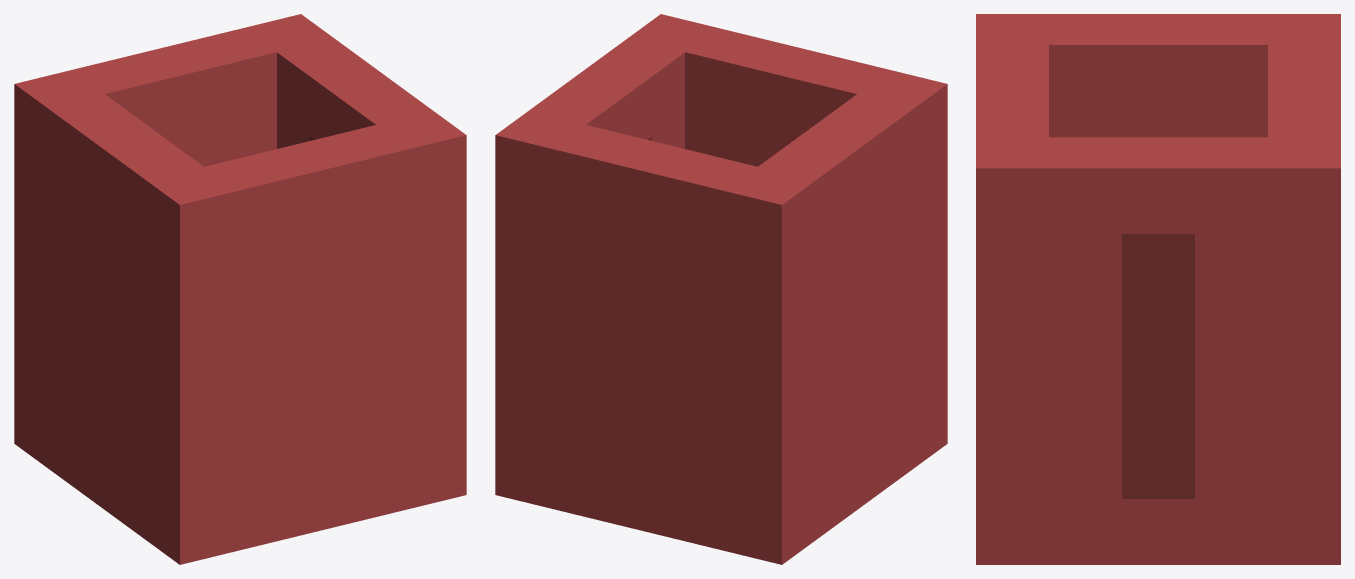
Rendered from muglightred.fbx.
3 views of the same model, side by side, from view 1: azimuth 30°, elevation 25°; view 2: azimuth 150°, elevation 25°; view 3: azimuth 270°, elevation 25° (orthographic). The views are drawn at different scales.
Parts seen in each view (by area): view 1: muglightred; view 2: muglightred; view 3: muglightred.
Boxes of the visible parts, x1,y1,x2,y2 form: muglightred: (14, 14, 466, 564); muglightred: (495, 14, 947, 564); muglightred: (976, 14, 1340, 564).
Size of the model in its own units: 5 by 6 by 5.
